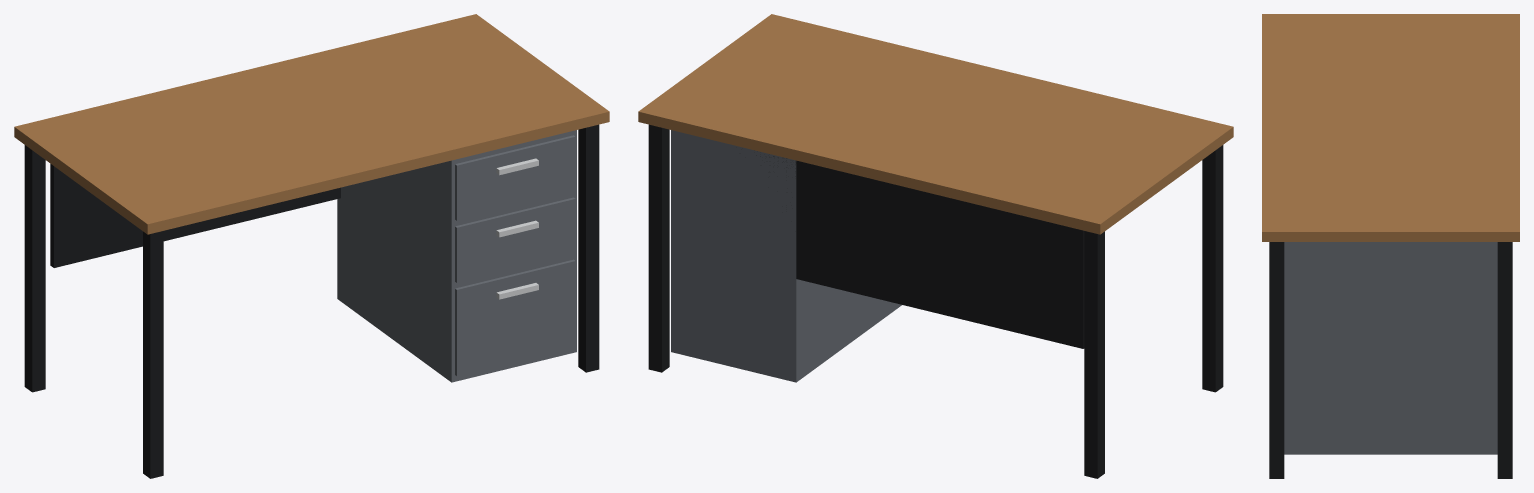
The model's file is desk.glb.
3 renders of one model, left to right at view 1: azimuth 30°, elevation 25°; view 2: azimuth 150°, elevation 25°; view 3: azimuth 270°, elevation 25°, orthographic. The views are drawn at different scales.
Visible parts, largest first — view 1: desk; view 2: desk; view 3: desk.
Part boxes in pixels (x1,y1,x2,y2): desk: [14, 14, 609, 478]; desk: [638, 14, 1233, 478]; desk: [1262, 14, 1519, 478].
Bounding box in the file's own units: 1.4 × 0.75 × 0.7.
Materials: 1 (1 with a texture image).
